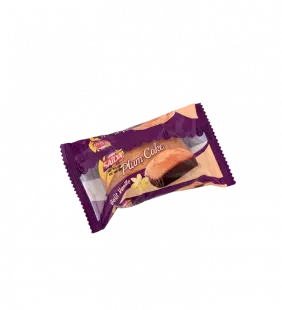SAIDA: (52, 93, 243, 242)
